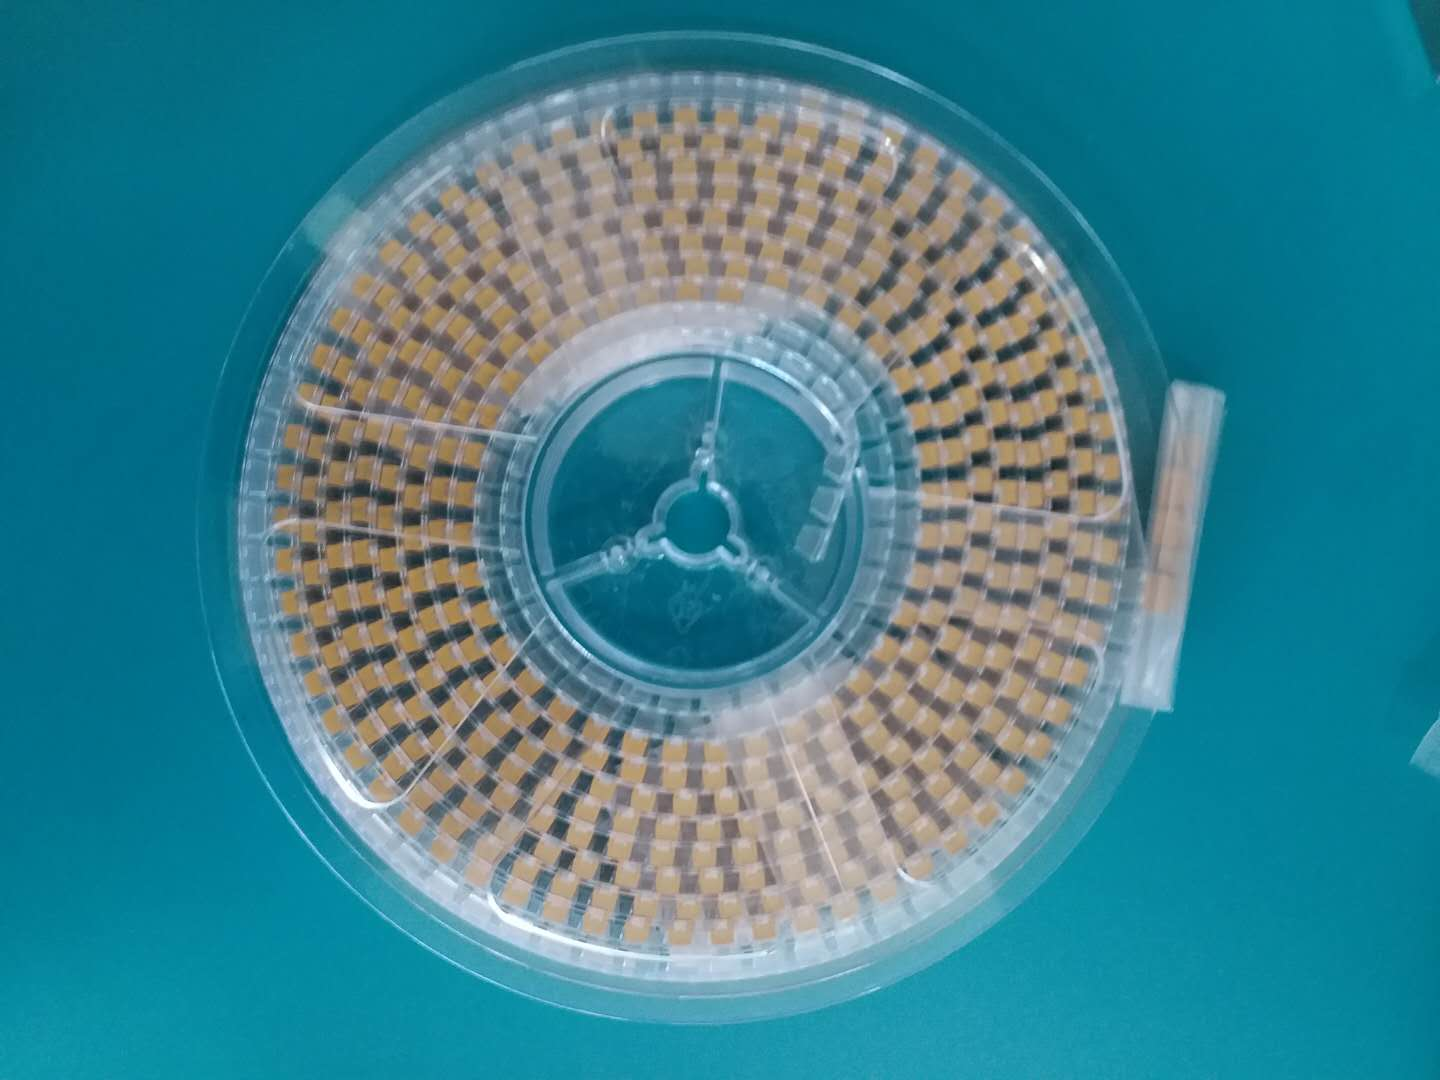G0: (663, 140, 697, 174), (379, 703, 407, 727), (956, 327, 979, 355), (421, 307, 450, 329), (449, 277, 473, 303), (1002, 363, 1027, 387), (518, 740, 543, 763), (461, 638, 486, 661), (437, 647, 461, 670), (417, 666, 441, 691), (464, 335, 489, 358), (448, 317, 472, 341), (503, 884, 527, 909), (398, 341, 424, 364), (922, 663, 945, 687), (437, 440, 461, 463), (794, 908, 819, 930), (881, 675, 907, 697), (378, 548, 399, 574), (433, 560, 455, 587), (986, 327, 1009, 351), (975, 364, 998, 388), (971, 685, 994, 708), (897, 697, 920, 720), (441, 702, 464, 726), (406, 697, 430, 719), (498, 821, 520, 845), (876, 641, 901, 663), (513, 703, 537, 725), (351, 381, 376, 403), (300, 563, 325, 584), (781, 809, 806, 830), (486, 716, 513, 736), (866, 729, 889, 752), (458, 683, 481, 706), (942, 351, 964, 374), (518, 674, 542, 695), (416, 276, 438, 299), (378, 379, 401, 400), (890, 287, 915, 307), (550, 702, 575, 723), (460, 761, 485, 782), (403, 739, 427, 759), (310, 604, 330, 628), (581, 916, 605, 936), (674, 798, 698, 818), (783, 723, 808, 743), (1023, 641, 1045, 663), (976, 471, 999, 492), (966, 643, 988, 666), (906, 642, 929, 664), (986, 281, 1009, 303), (871, 302, 893, 323), (485, 674, 507, 697), (469, 734, 492, 756), (386, 661, 408, 683), (378, 469, 400, 490), (325, 547, 347, 569), (356, 583, 379, 605), (474, 836, 495, 859), (1026, 295, 1047, 319), (945, 682, 968, 702), (938, 261, 962, 281), (633, 791, 657, 811), (547, 729, 570, 750), (751, 920, 774, 940), (945, 722, 969, 741), (501, 763, 526, 783), (621, 762, 647, 781), (1073, 410, 1094, 431), (1008, 317, 1030, 338), (920, 714, 941, 735), (482, 251, 503, 272), (1078, 452, 1099, 474), (1006, 611, 1026, 634), (986, 712, 1007, 735), (899, 331, 920, 354), (492, 640, 513, 663), (386, 756, 406, 778), (359, 722, 380, 744), (530, 343, 552, 363), (424, 523, 447, 543), (452, 486, 475, 506), (410, 446, 431, 469), (403, 529, 423, 551), (353, 542, 373, 565), (661, 766, 681, 788), (1083, 623, 1103, 646), (1009, 675, 1028, 699), (993, 647, 1013, 670), (872, 880, 896, 900), (431, 480, 449, 505), (369, 621, 387, 646), (776, 837, 801, 855), (945, 630, 965, 651), (855, 704, 876, 725), (464, 446, 484, 467), (354, 459, 375, 480), (306, 438, 327, 459), (502, 371, 523, 393), (782, 861, 803, 883), (920, 824, 940, 845), (960, 389, 981, 411), (1036, 598, 1056, 621), (1005, 731, 1027, 750), (797, 777, 820, 796), (920, 754, 943, 773), (585, 723, 609, 741), (582, 751, 609, 767), (461, 801, 485, 819), (446, 248, 469, 267), (549, 212, 576, 228), (1016, 403, 1034, 427), (624, 739, 649, 756), (922, 607, 947, 624), (722, 237, 747, 254), (543, 902, 568, 919), (783, 753, 808, 770), (833, 897, 862, 912), (1003, 262, 1024, 282), (957, 591, 977, 611), (964, 294, 984, 314), (403, 256, 423, 277), (441, 369, 461, 389), (764, 893, 785, 913), (946, 444, 966, 464), (921, 366, 941, 387), (1045, 554, 1065, 575), (962, 250, 981, 271), (905, 265, 926, 285), (570, 830, 592, 850), (494, 788, 516, 808), (480, 223, 499, 245), (329, 464, 348, 486), (408, 569, 427, 591), (821, 729, 842, 749), (836, 758, 857, 777), (864, 830, 886, 850), (939, 404, 958, 425), (406, 387, 422, 413), (1022, 442, 1037, 469), (1045, 655, 1064, 677), (958, 749, 981, 767), (852, 675, 874, 693), (461, 564, 480, 587), (898, 610, 922, 627), (714, 798, 738, 815), (578, 147, 602, 164), (744, 763, 768, 781), (842, 864, 859, 888), (482, 400, 497, 428), (664, 746, 689, 762), (898, 196, 918, 216), (705, 770, 726, 790), (430, 731, 450, 750), (756, 788, 777, 808), (857, 802, 876, 822), (1049, 434, 1068, 455), (921, 318, 941, 337), (1079, 493, 1098, 515), (969, 549, 988, 571), (895, 804, 916, 822), (609, 843, 630, 861), (432, 773, 454, 791), (821, 699, 842, 717), (890, 746, 913, 763), (465, 863, 488, 880), (745, 739, 768, 756), (821, 788, 838, 811), (815, 825, 838, 842), (1104, 500, 1121, 523), (836, 194, 859, 210), (592, 783, 616, 799), (307, 674, 327, 693), (825, 850, 845, 869), (979, 606, 999, 624), (1002, 483, 1020, 504), (923, 446, 941, 466), (908, 234, 929, 252), (871, 336, 891, 354), (875, 211, 896, 229), (873, 241, 893, 259), (389, 428, 407, 448), (433, 227, 454, 245), (340, 684, 358, 704), (1093, 583, 1111, 604), (556, 768, 581, 783), (590, 197, 615, 212), (859, 263, 881, 280), (508, 265, 530, 282), (351, 500, 369, 522), (803, 883, 824, 900), (1062, 370, 1079, 391), (992, 402, 1009, 423), (913, 405, 930, 427), (331, 587, 347, 609), (348, 628, 364, 651), (785, 227, 808, 242), (726, 262, 749, 277), (681, 236, 705, 251), (1027, 695, 1047, 714), (348, 748, 367, 766), (452, 526, 472, 545), (300, 480, 319, 499), (376, 285, 395, 304), (386, 591, 404, 610), (910, 568, 931, 585), (952, 483, 973, 500), (695, 852, 715, 869), (413, 791, 433, 808), (910, 858, 931, 875), (1030, 353, 1047, 373), (895, 370, 915, 387), (971, 429, 986, 450), (937, 293, 952, 314), (664, 211, 689, 225), (516, 230, 541, 244), (1026, 484, 1040, 509), (863, 178, 886, 193), (539, 788, 561, 803), (338, 420, 353, 442), (540, 162, 562, 177), (457, 400, 472, 423), (405, 487, 420, 509), (992, 565, 1007, 588), (1053, 474, 1068, 497), (333, 312, 351, 330), (325, 505, 344, 523), (1016, 230, 1034, 248), (840, 278, 859, 295), (654, 851, 674, 868), (401, 815, 421, 832), (353, 321, 370, 340), (1057, 617, 1076, 634), (882, 842, 895, 868), (825, 159, 846, 175), (754, 168, 778, 182), (714, 159, 738, 172), (705, 210, 729, 223), (705, 748, 726, 763), (688, 259, 709, 275), (537, 846, 558, 862), (297, 526, 317, 542), (594, 174, 615, 189), (567, 289, 591, 303), (478, 363, 494, 383), (324, 646, 340, 666), (736, 847, 757, 862), (701, 876, 722, 891), (618, 868, 639, 883), (532, 815, 553, 829), (605, 275, 627, 289), (370, 345, 384, 366), (475, 604, 490, 625), (422, 609, 437, 631), (616, 819, 641, 832), (1069, 665, 1087, 682), (1017, 569, 1035, 587), (1051, 704, 1069, 722), (952, 798, 971, 815), (746, 216, 769, 229), (327, 712, 344, 731), (294, 636, 311, 655), (283, 594, 300, 613), (278, 552, 295, 571), (393, 310, 410, 328), (380, 509, 393, 532), (1043, 393, 1057, 415), (981, 767, 1000, 783), (932, 223, 951, 239), (444, 819, 464, 835), (383, 244, 403, 260), (356, 279, 375, 295), (932, 781, 952, 795), (577, 805, 598, 820), (336, 358, 350, 379), (401, 630, 416, 650), (761, 247, 785, 260), (657, 878, 680, 891), (795, 179, 821, 191), (548, 186, 574, 197), (556, 881, 577, 895), (314, 345, 328, 366), (427, 403, 441, 424), (369, 422, 382, 444), (1032, 739, 1049, 756), (892, 782, 909, 799), (1098, 417, 1113, 436), (624, 217, 642, 233), (561, 265, 579, 281), (1106, 459, 1120, 479), (1000, 445, 1015, 464), (745, 141, 768, 153), (675, 186, 697, 199), (657, 827, 679, 839), (769, 273, 789, 287), (576, 861, 596, 875), (517, 864, 537, 878), (466, 204, 486, 218), (600, 248, 620, 262), (1030, 531, 1047, 547), (1008, 775, 1025, 791), (948, 528, 965, 543), (946, 201, 963, 217), (785, 150, 808, 161), (374, 783, 391, 799), (444, 191, 461, 206), (505, 338, 520, 355), (838, 142, 859, 154), (823, 243, 845, 255), (700, 828, 721, 841), (715, 187, 737, 200), (720, 287, 742, 299), (477, 164, 499, 177), (547, 244, 568, 256), (914, 176, 932, 191), (842, 311, 861, 326), (635, 163, 653, 178), (427, 351, 438, 377), (363, 669, 376, 689), (756, 195, 779, 206), (553, 128, 576, 140), (598, 303, 620, 314), (802, 260, 822, 272), (797, 205, 818, 218), (759, 120, 779, 133), (679, 285, 700, 297), (475, 290, 495, 303), (1044, 329, 1057, 349), (939, 567, 954, 584), (280, 470, 295, 487), (1071, 577, 1085, 596), (287, 429, 300, 447), (638, 292, 657, 305), (514, 146, 535, 158), (584, 228, 605, 239), (509, 203, 533, 213), (500, 306, 513, 326), (413, 217, 429, 231), (979, 809, 996, 822), (1003, 528, 1017, 545), (925, 529, 939, 546), (920, 153, 937, 167), (594, 898, 615, 910), (502, 182, 523, 193), (635, 191, 657, 201), (620, 143, 642, 153), (798, 128, 818, 140), (1101, 545, 1116, 559), (986, 202, 1002, 216), (526, 286, 543, 298), (835, 222, 855, 233), (704, 138, 725, 149), (1091, 380, 1102, 398), (444, 602, 456, 621), (955, 176, 969, 189), (742, 825, 757, 837), (1079, 539, 1093, 552), (638, 905, 657, 916), (300, 387, 315, 399), (533, 312, 549, 323), (678, 113, 697, 123), (681, 909, 698, 919), (979, 515, 992, 528), (722, 909, 740, 918), (717, 115, 737, 123), (434, 846, 450, 857), (637, 118, 657, 126), (592, 123, 611, 130), (650, 267, 668, 275), (951, 839, 964, 851), (562, 323, 575, 335), (1053, 525, 1067, 535), (646, 241, 663, 248), (746, 878, 763, 886), (981, 233, 992, 244), (322, 397, 338, 405), (876, 159, 891, 167), (926, 488, 943, 495), (810, 293, 825, 299), (630, 933, 647, 938), (715, 936, 730, 942), (867, 777, 876, 785), (674, 937, 689, 942), (278, 511, 287, 518), (1079, 346, 1085, 357)
